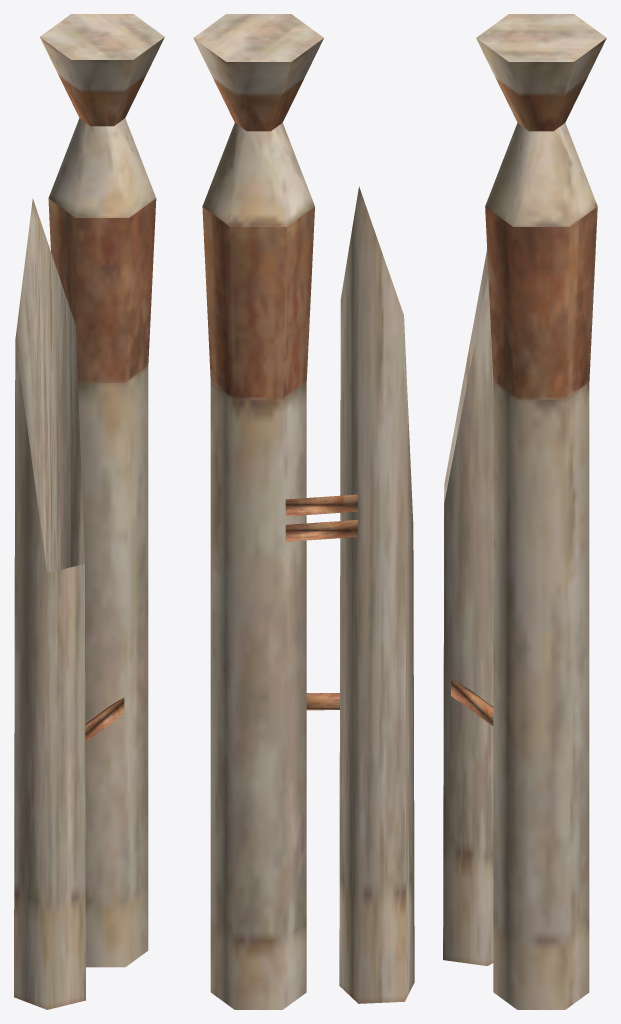
Rendered from thm_tato_debris_s04_l3.fbx.
3 views of the same model, side by side, from view 1: azimuth 30°, elevation 25°; view 2: azimuth 150°, elevation 25°; view 3: azimuth 270°, elevation 25° (orthographic). The views are drawn at different scales.
Visible parts, largest first — view 1: mesh_node; view 2: mesh_node; view 3: mesh_node.
Boxes of the visible parts, left/top/right/bottom form: mesh_node: left=14, top=14, right=164, bottom=1009; mesh_node: left=193, top=14, right=414, bottom=1009; mesh_node: left=443, top=14, right=606, bottom=1009.
Bounding box in the file's own units: 0.974 × 5.28 × 0.8206.
